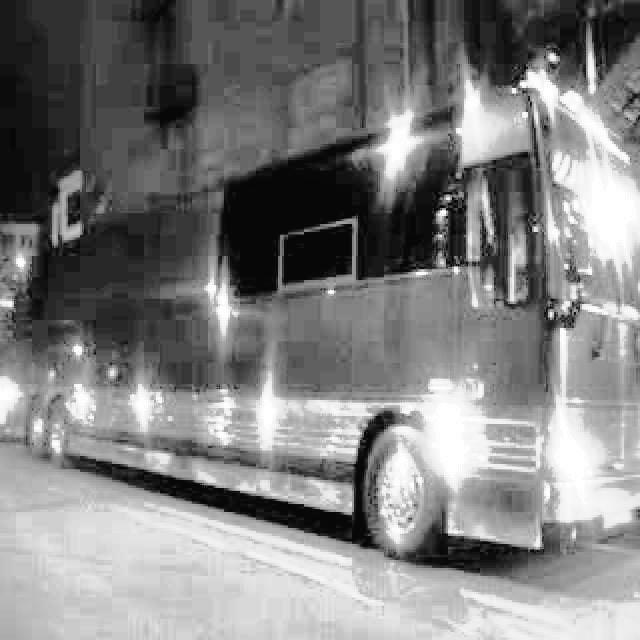Bus: (47, 95, 640, 574)
